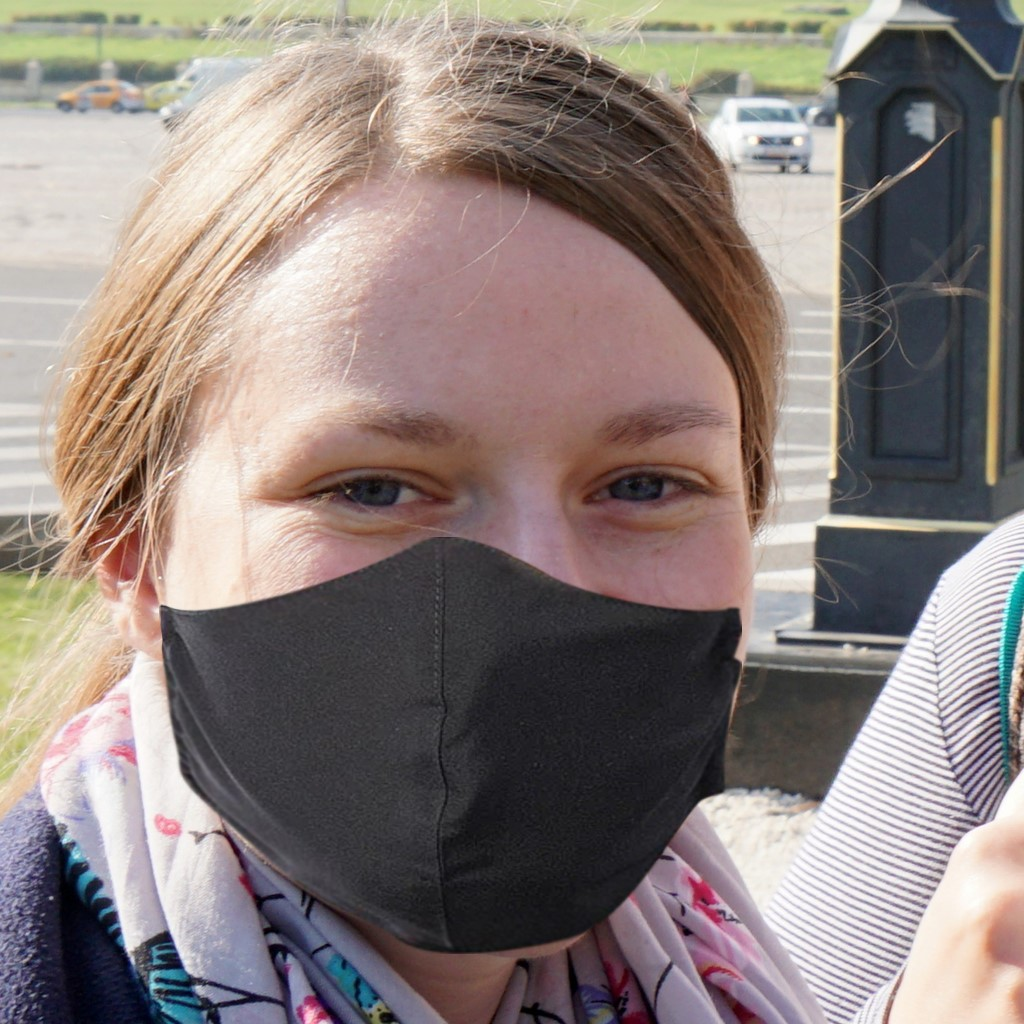con_mascara: (139, 172, 761, 973)
